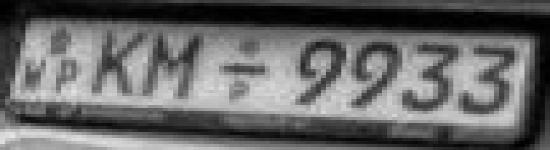-: (214, 62, 270, 78)
3: (456, 44, 521, 116), (405, 41, 462, 112)
9: (292, 35, 348, 107), (349, 37, 403, 109)
K: (90, 27, 146, 98)
M: (141, 32, 208, 101)
P: (54, 56, 82, 95)
W: (18, 56, 49, 91)
